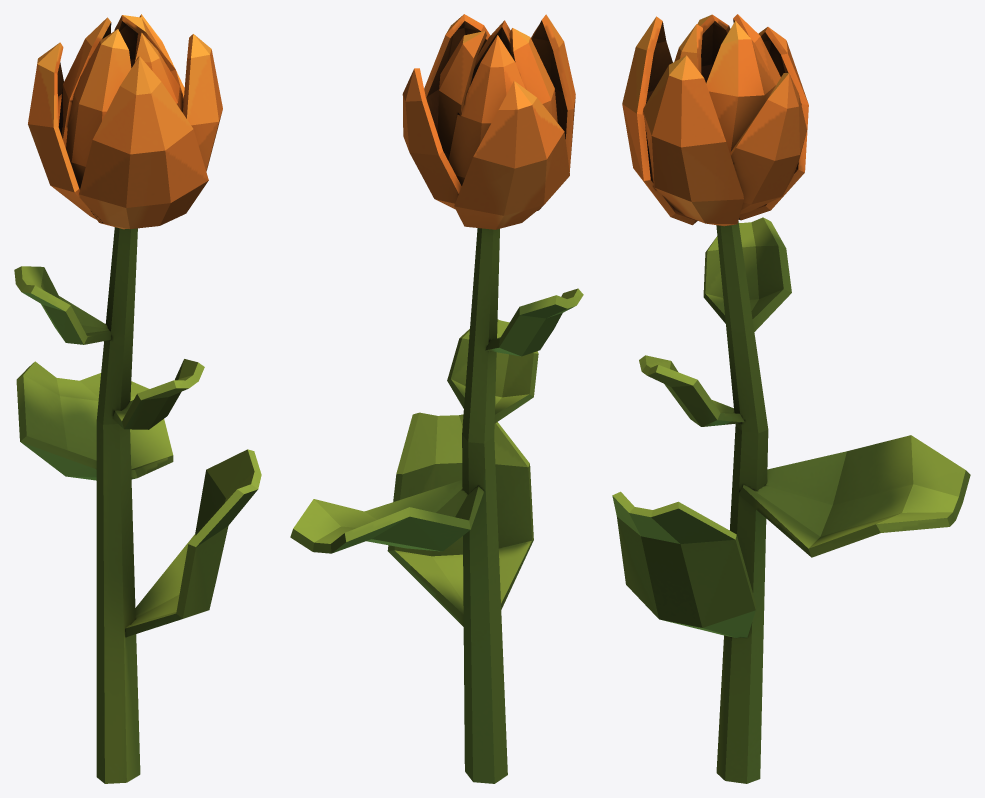
File: a53c7943-18fc-4aa4-a12c-19e0c2f6eec4.glb
The picture shows the model from 3 angles, left to right: view 1: azimuth 30°, elevation 25°; view 2: azimuth 150°, elevation 25°; view 3: azimuth 270°, elevation 25°; orthographic projection. The views are drawn at different scales.
Visible parts, largest first — view 1: tulip; view 2: tulip; view 3: tulip.
Boxes of the visible parts, x1,y1,x2,y2 form: tulip: (14,14,261,783); tulip: (290,14,583,783); tulip: (612,14,970,783).
Bounding box in the file's own units: 0.6397 × 2.28 × 0.9742.
1 material, 1 textured.
